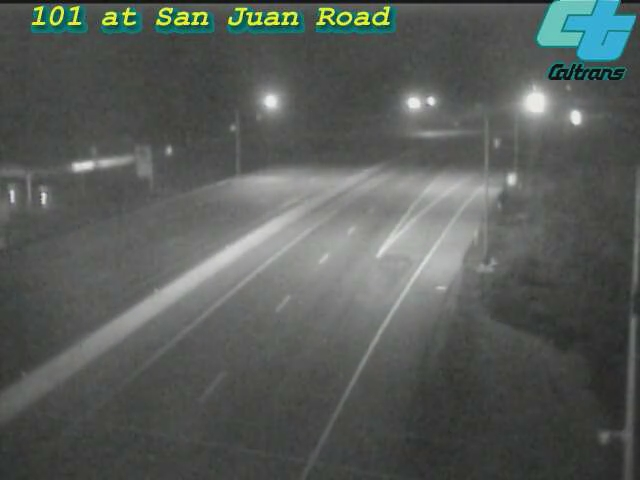vehicle: (548, 94, 598, 144), (509, 78, 559, 128)
